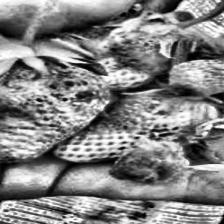Gray Mold: (0, 57, 113, 165), (54, 89, 196, 156), (92, 17, 218, 90), (108, 124, 200, 183), (167, 56, 224, 98)
